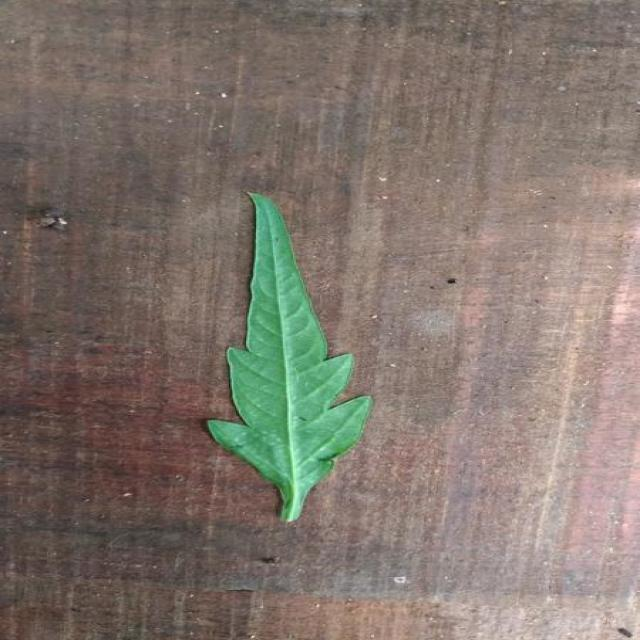balloon_Vine: (208, 194, 372, 521)
